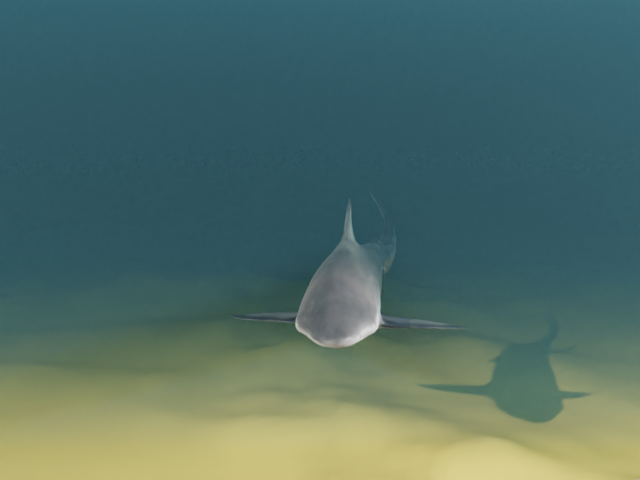Carribean Shark.001: (229, 186, 468, 348)
